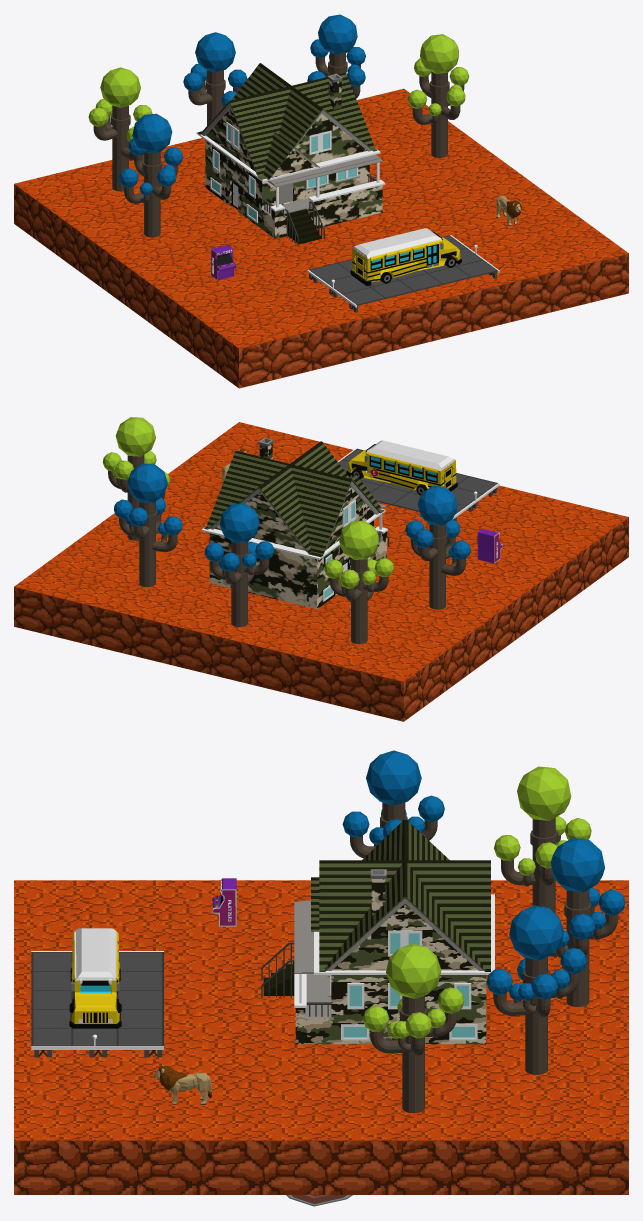
The picture shows the model from 3 angles, top to bottom: view 1: azimuth 30°, elevation 25°; view 2: azimuth 150°, elevation 25°; view 3: azimuth 270°, elevation 25°; orthographic projection. The views are drawn at different scales.
Parts seen in each view (by area): view 1: Cube.001, Cube.002, VEHICLES_SCHOOL_BUS, OBJRANDOM_ARCADE, ANIMAL_LEON; view 2: Cube.001, Cube.002, VEHICLES_SCHOOL_BUS, OBJRANDOM_ARCADE; view 3: Cube.001, Cube.002, VEHICLES_SCHOOL_BUS, ANIMAL_LEON, OBJRANDOM_ARCADE.
Boxes of the visible parts, x1,y1,x2,y2 form: Cube.001: (14,14,628,388); Cube.002: (196,63,385,245); VEHICLES_SCHOOL_BUS: (350,228,461,286); OBJRANDOM_ARCADE: (211,244,236,280); ANIMAL_LEON: (496,195,521,225); Cube.001: (14,417,628,721); Cube.002: (201,437,389,609); VEHICLES_SCHOOL_BUS: (346,440,457,495); OBJRANDOM_ARCADE: (477,528,502,563); Cube.001: (14,750,628,1194); Cube.002: (261,819,494,1044); VEHICLES_SCHOOL_BUS: (69,928,121,1028); ANIMAL_LEON: (154,1064,211,1105); OBJRANDOM_ARCADE: (212,878,236,926).
Size of the model in its own units: 4000 by 2380 by 4000.
47 materials, 6 textured.
